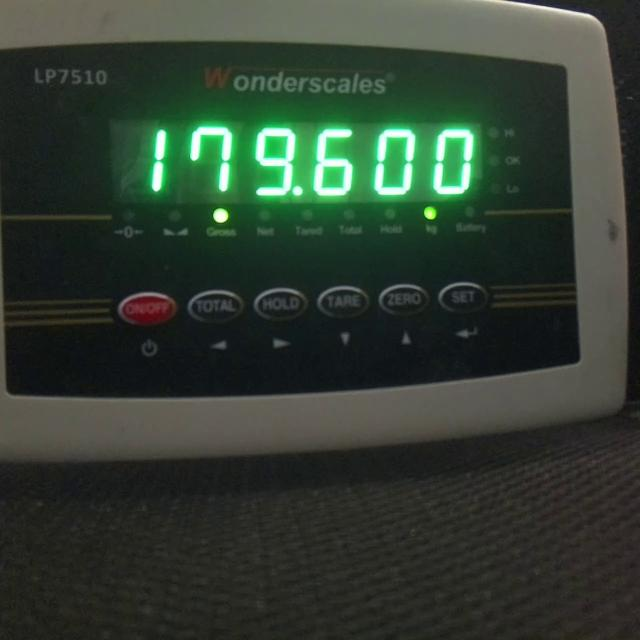.: (292, 185, 305, 198)
0: (374, 128, 416, 195)
1: (150, 129, 167, 192)
6: (312, 127, 354, 196)
7: (189, 124, 233, 192)
9: (254, 126, 296, 196)
